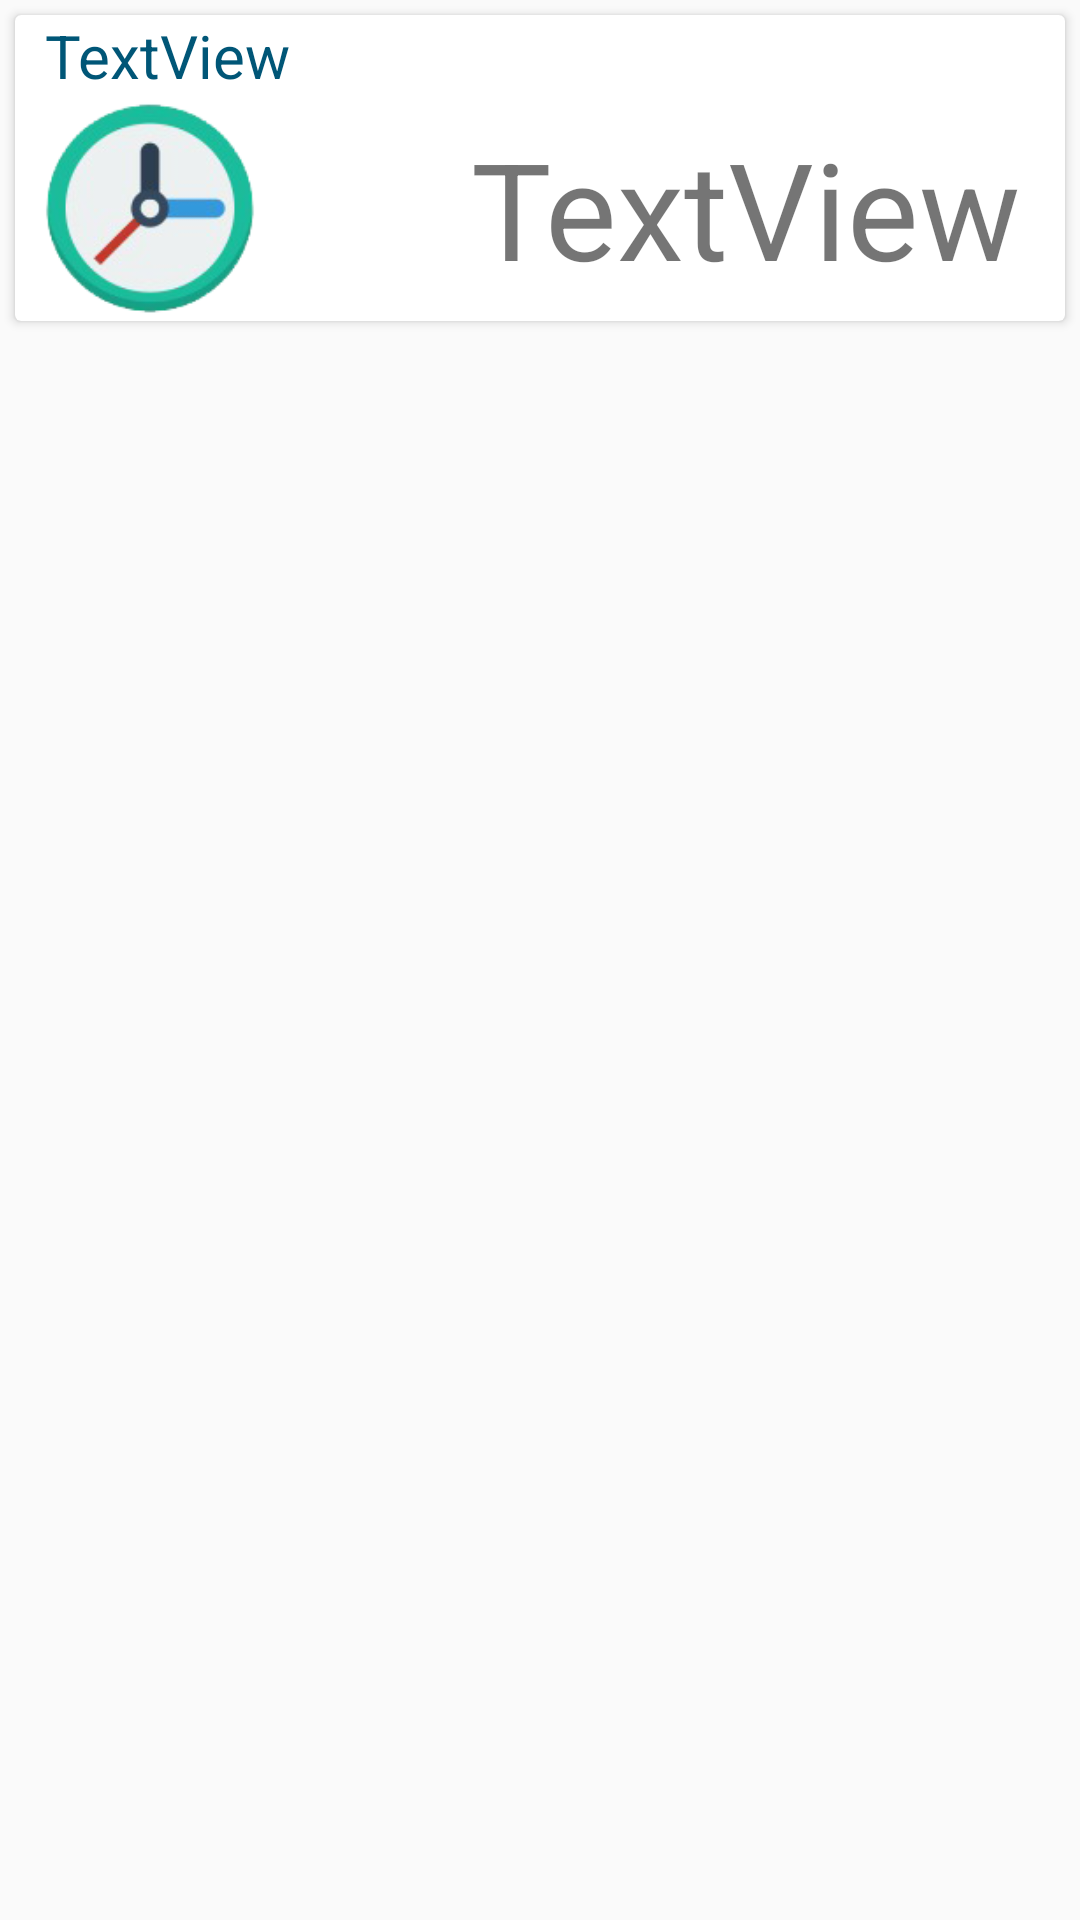

Icons on this 1080px x 1920px Android screen, each with the point to tap as (x=x, y=y):
clock: (x=150, y=208)
